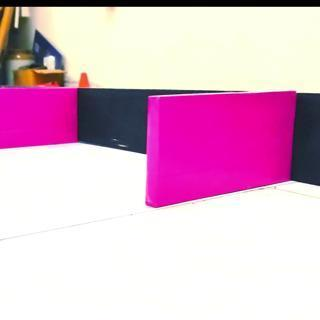xparking: (148, 96, 296, 198), (2, 88, 78, 148)
